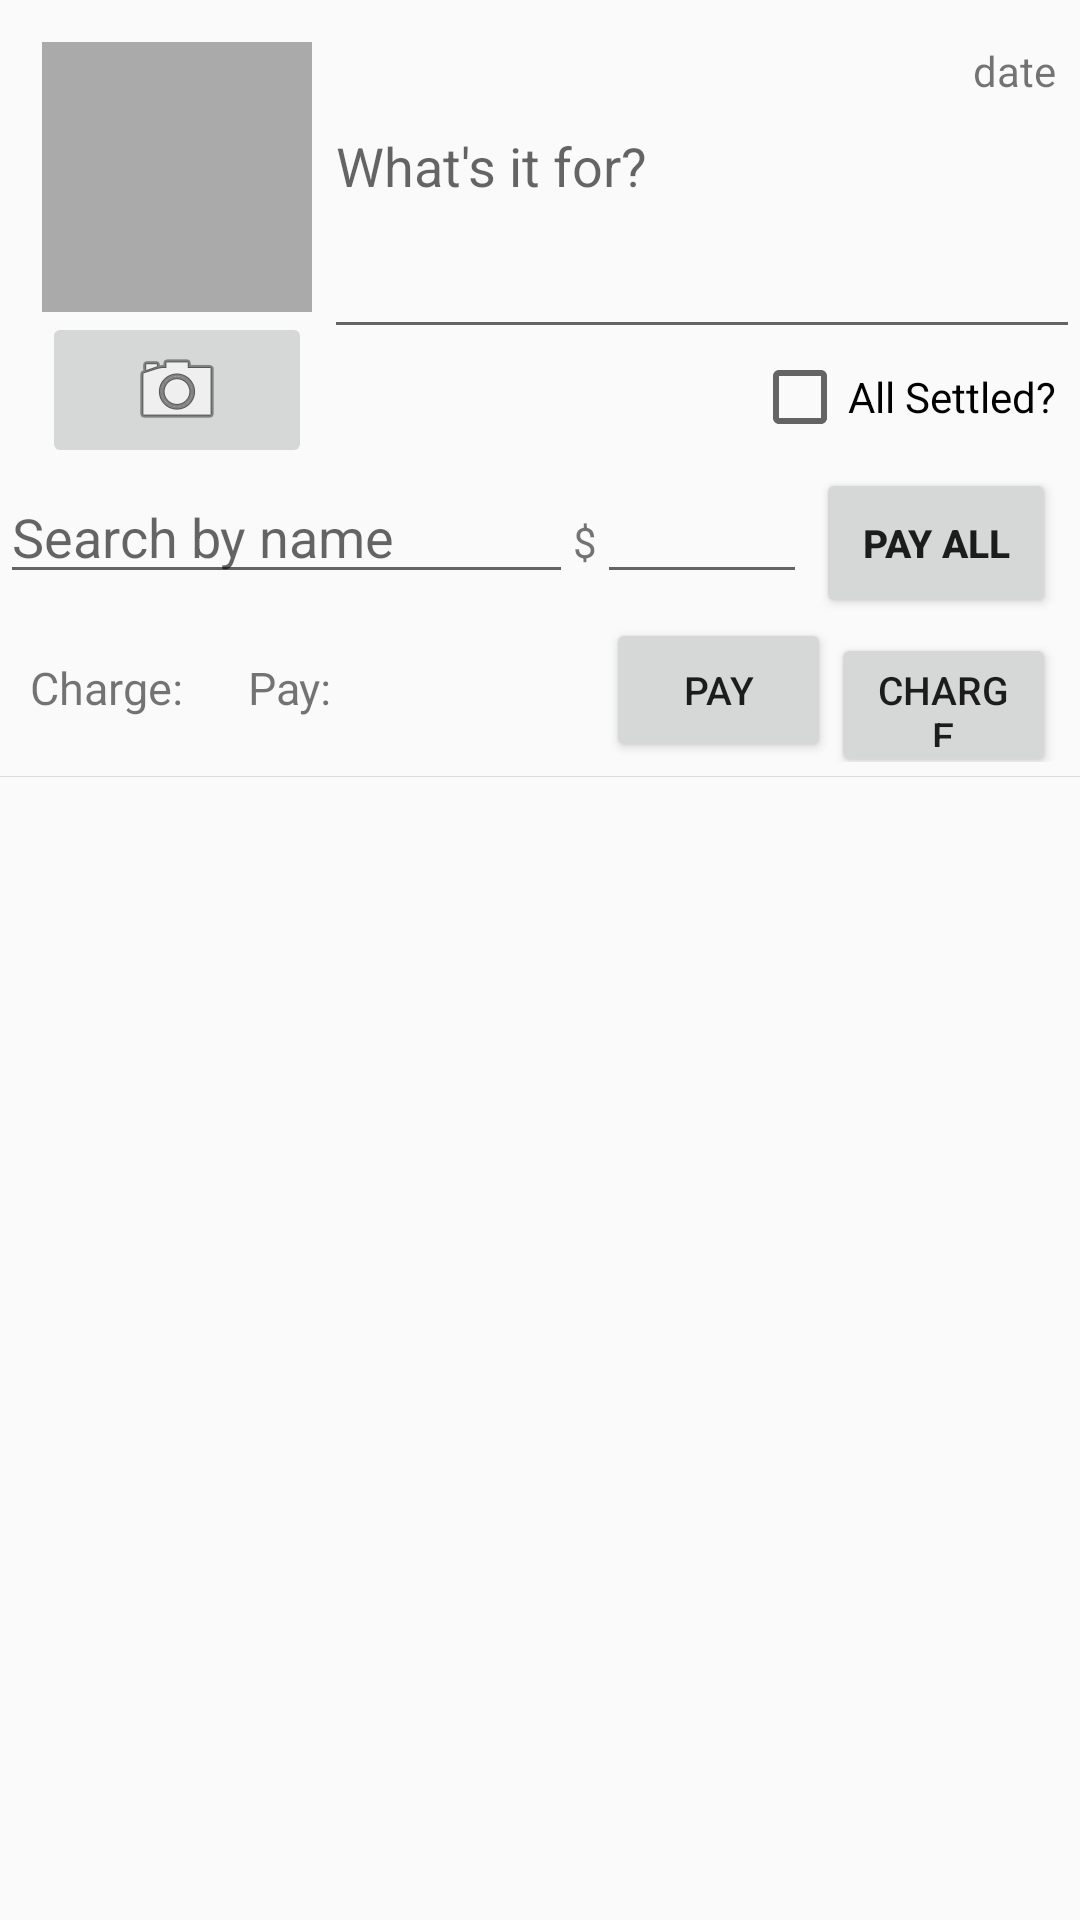

Icon bounding boxes for this 1080px x 1920px phone screenshot, format bbox=[x1, y1, x2, y2]:
camera: bbox=[54, 330, 300, 450]
